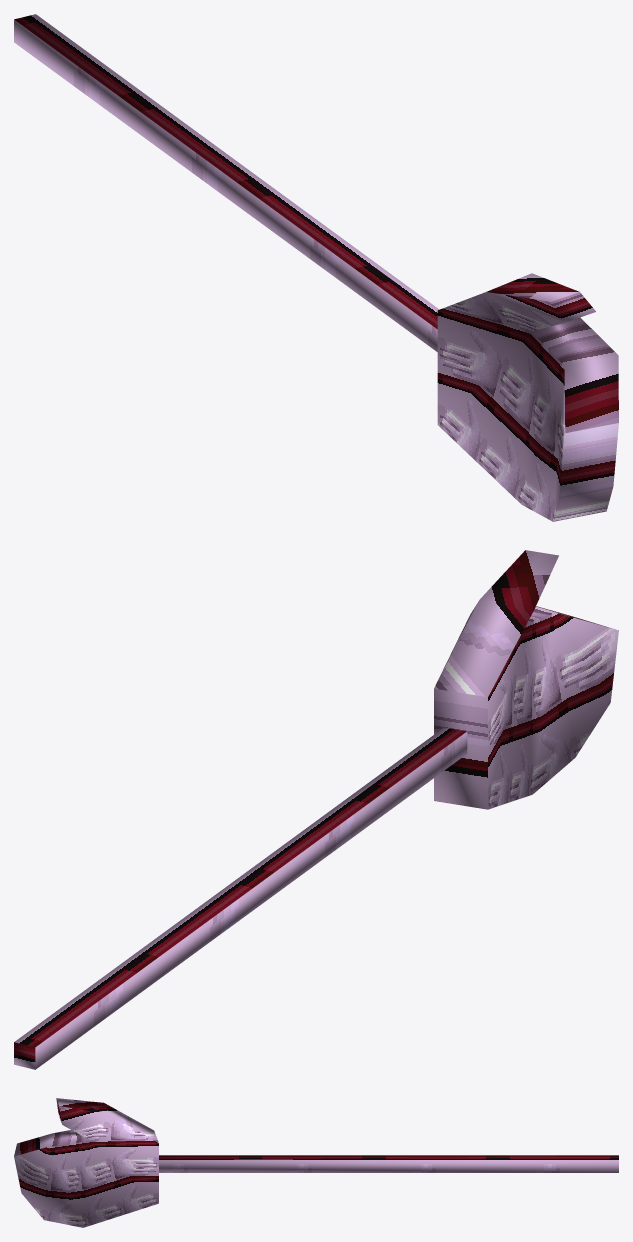
The model's file is 1465sbim02_05.gltf.
The picture shows the model from 3 angles, top to bottom: view 1: azimuth 30°, elevation 25°; view 2: azimuth 150°, elevation 25°; view 3: azimuth 270°, elevation 25°; orthographic projection. The views are drawn at different scales.
Parts seen in each view (by area): view 1: 1465sbim02_05; view 2: 1465sbim02_05; view 3: 1465sbim02_05.
Part boxes in pixels (x1,y1,x2,y2): 1465sbim02_05: (14,14,618,521); 1465sbim02_05: (14,550,618,1069); 1465sbim02_05: (14,1098,618,1227).
Bounding box in the file's own units: 0.0952 × 0.2427 × 1.14.
Materials: 1 (1 with a texture image).
